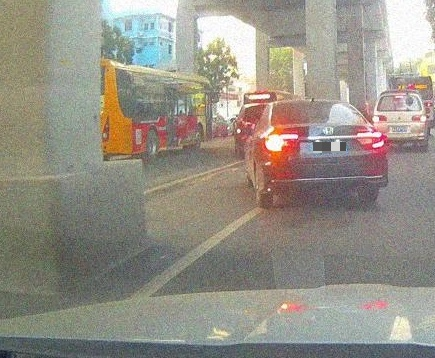L_light: (264, 133, 298, 152)
R_light: (357, 132, 384, 149)
T_light: (315, 119, 335, 124)
day-left: (261, 100, 388, 208)
plate_1: (313, 142, 346, 153)
